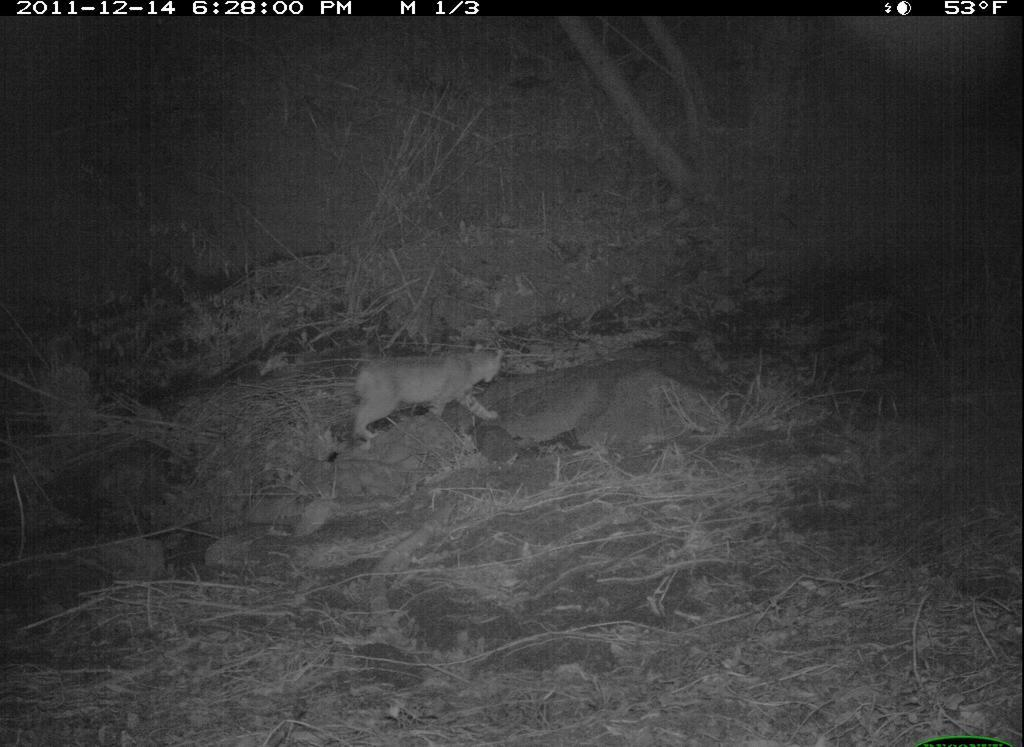bobcat: (329, 324, 524, 461)
